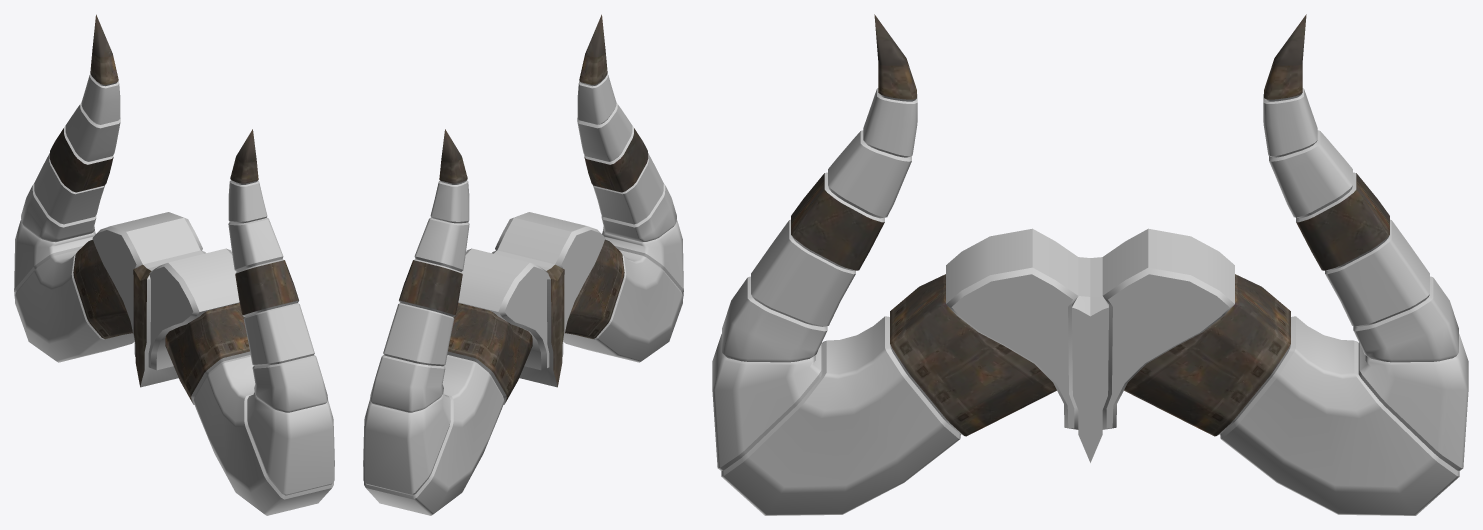
3 views of the same model, side by side, from view 1: azimuth 30°, elevation 25°; view 2: azimuth 150°, elevation 25°; view 3: azimuth 270°, elevation 25° (orthographic). The views are drawn at different scales.
Visible parts, largest first — view 1: SM_DR_Gateway_Zamorak_Ornament_01_LOD0; view 2: SM_DR_Gateway_Zamorak_Ornament_01_LOD0; view 3: SM_DR_Gateway_Zamorak_Ornament_01_LOD0.
Boxes of the visible parts, x1=… form: SM_DR_Gateway_Zamorak_Ornament_01_LOD0: x1=14, y1=14, x2=334, y2=515; SM_DR_Gateway_Zamorak_Ornament_01_LOD0: x1=363, y1=14, x2=683, y2=515; SM_DR_Gateway_Zamorak_Ornament_01_LOD0: x1=712, y1=14, x2=1468, y2=515.
Bounding box in the file's own units: 0.5453 × 2.45 × 3.46.
